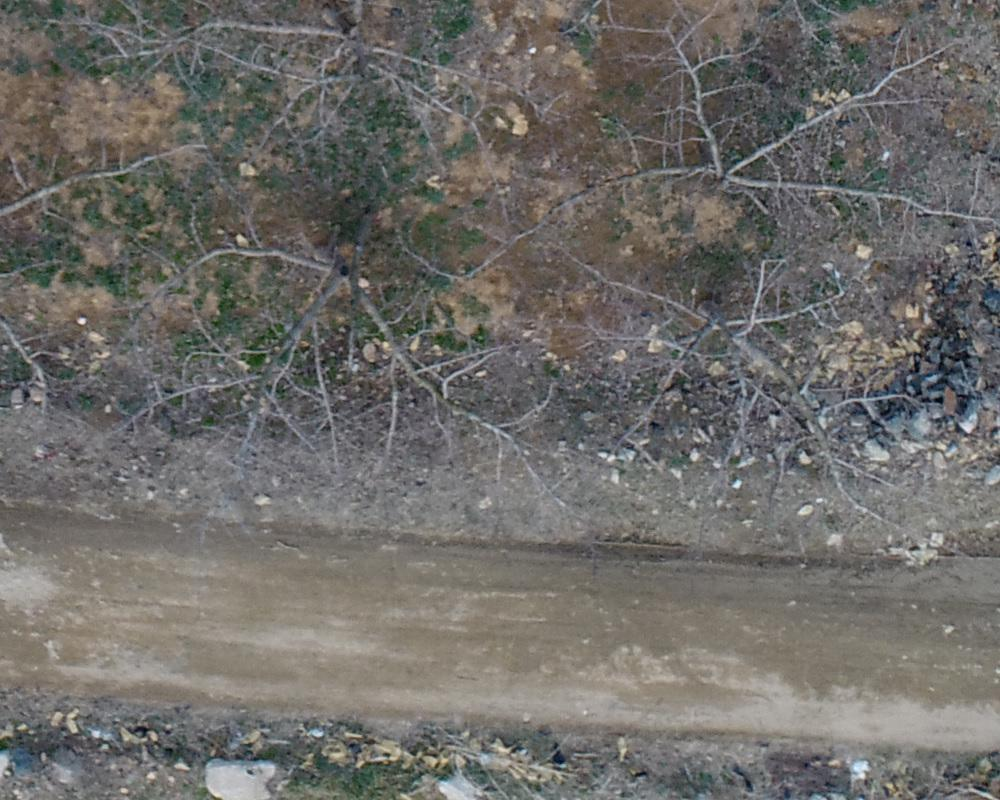apple: (129, 157, 542, 510), (524, 230, 911, 538), (555, 10, 990, 283), (65, 10, 532, 223)
